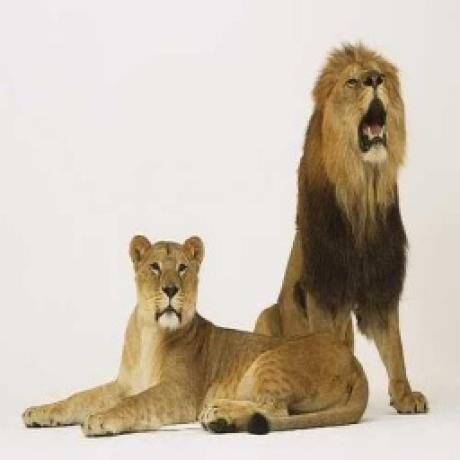Lion: (21, 231, 372, 436), (257, 41, 429, 416)
